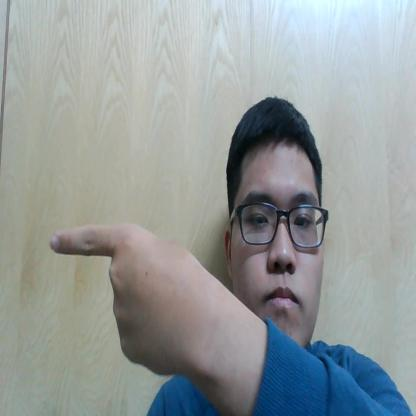right: (44, 210, 217, 395)
